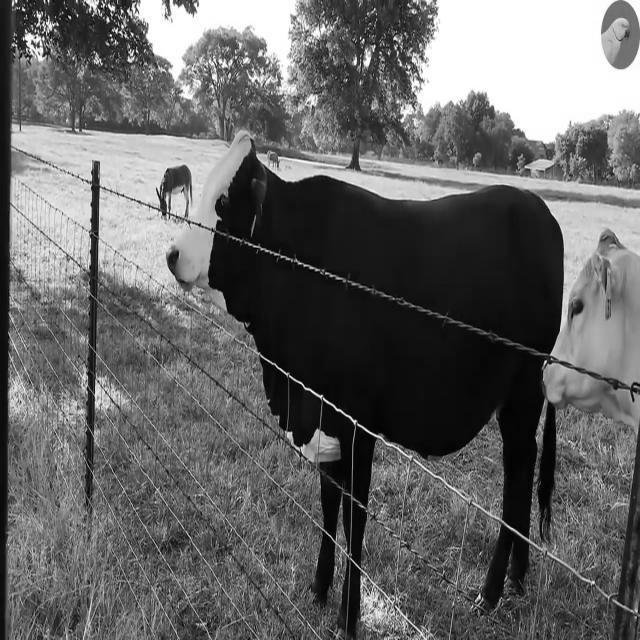cow: (166, 131, 562, 640), (552, 230, 640, 383), (545, 364, 639, 429), (538, 409, 556, 532), (156, 165, 192, 218)
